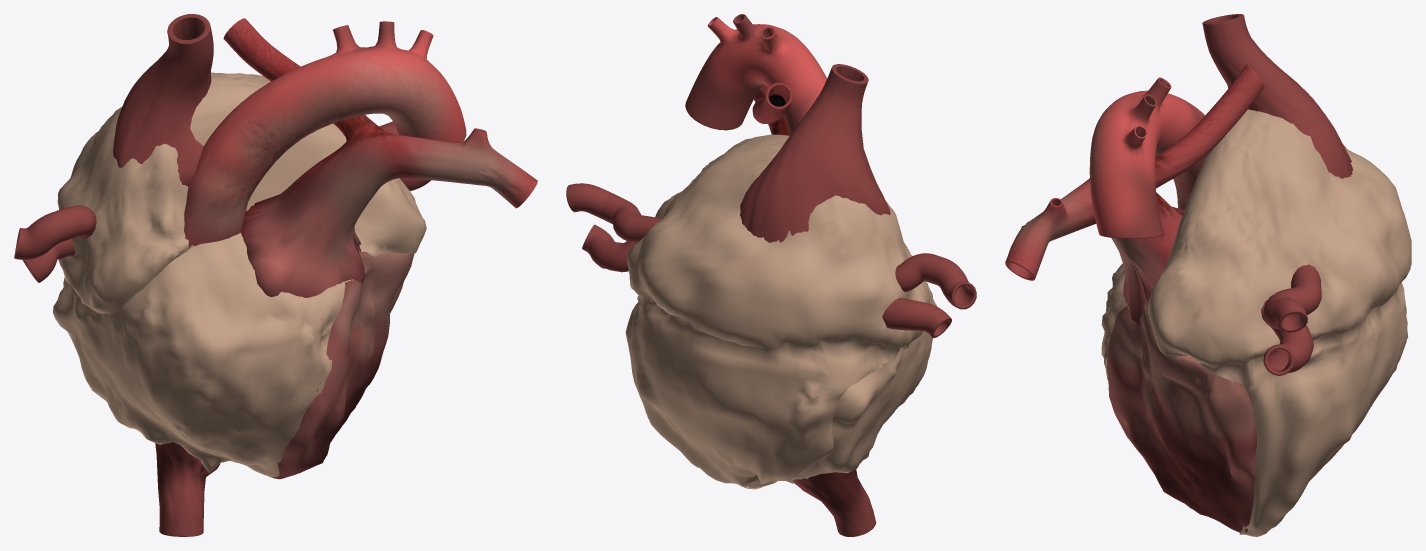
File: HeartModel.fbx
3 renders of one model, left to right at view 1: azimuth 30°, elevation 25°; view 2: azimuth 150°, elevation 25°; view 3: azimuth 270°, elevation 25°, orthographic. The views are drawn at different scales.
Visible parts, largest first — view 1: Object002, Box002, Line002, Line001, Object001, Line003, Line010, Line006, Line007; view 2: Box002, Line003, Line001, Object002, Line010, Line009, Line006, Line007, Line002, Line008; view 3: Box002, Object001, Line001, Line002, Line003, Line009, Line008, Object002.
Boxes of the visible parts, x1=… form: Object002: x1=53, y1=233, x2=353, y2=479; Box002: x1=57, y1=72, x2=426, y2=313; Line002: x1=223, y1=18, x2=537, y2=297; Line001: x1=184, y1=21, x2=466, y2=248; Object001: x1=269, y1=251, x2=414, y2=478; Line003: x1=113, y1=14, x2=213, y2=186; Line010: x1=155, y1=442, x2=220, y2=536; Line006: x1=14, y1=205, x2=96, y2=259; Line007: x1=23, y1=239, x2=75, y2=282; Box002: x1=625, y1=134, x2=930, y2=489; Line003: x1=740, y1=64, x2=890, y2=242; Line001: x1=685, y1=14, x2=827, y2=134; Object002: x1=726, y1=283, x2=936, y2=487; Line010: x1=793, y1=469, x2=876, y2=536; Line009: x1=566, y1=183, x2=661, y2=242; Line006: x1=895, y1=253, x2=976, y2=309; Line007: x1=882, y1=298, x2=951, y2=338; Line002: x1=752, y1=83, x2=792, y2=135; Line008: x1=582, y1=224, x2=635, y2=272; Box002: x1=1145, y1=109, x2=1411, y2=536; Object001: x1=1106, y1=300, x2=1256, y2=532; Line001: x1=1089, y1=77, x2=1206, y2=238; Line002: x1=1005, y1=64, x2=1264, y2=326; Line003: x1=1202, y1=14, x2=1353, y2=178; Line009: x1=1263, y1=264, x2=1321, y2=332; Line008: x1=1261, y1=300, x2=1313, y2=375; Object002: x1=1101, y1=263, x2=1130, y2=379.
Bounding box in the file's own units: 560 × 630 × 467.
